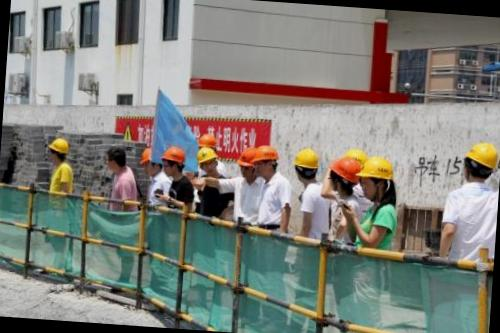no_helmet: (102, 144, 135, 177)
